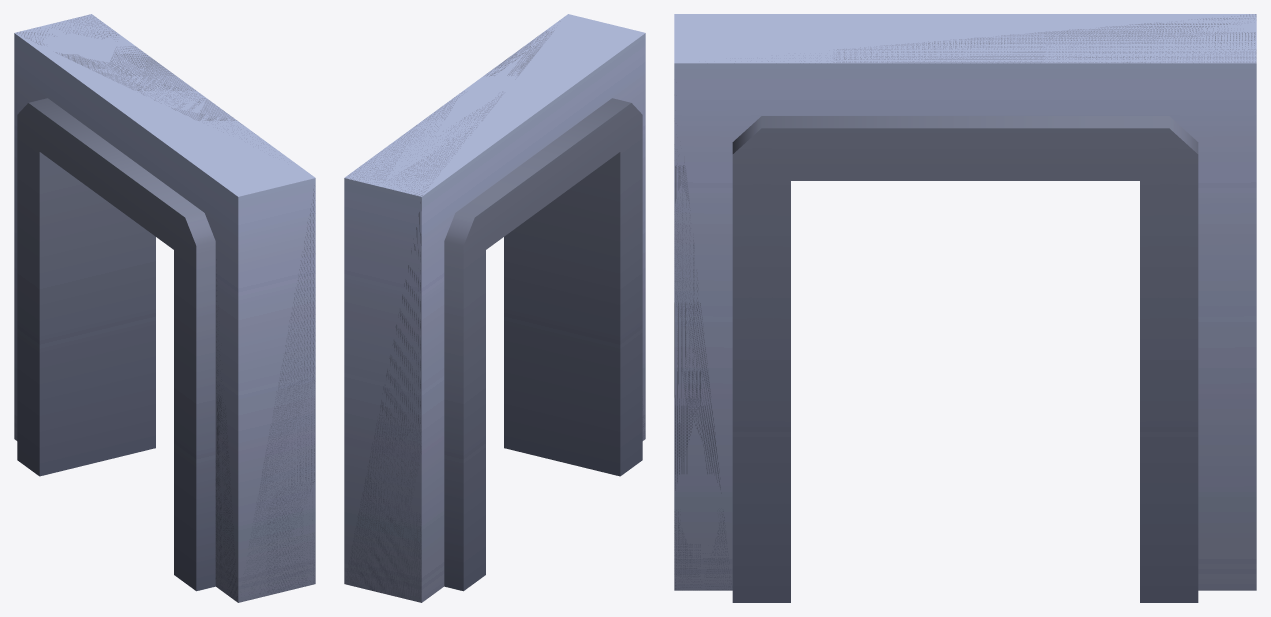
Rendered from wall-doorway.glb.
3 renders of one model, left to right at view 1: azimuth 30°, elevation 25°; view 2: azimuth 150°, elevation 25°; view 3: azimuth 270°, elevation 25°, orthographic. The views are drawn at different scales.
Parts seen in each view (by area): view 1: wall-doorway; view 2: wall-doorway; view 3: wall-doorway.
Boxes of the visible parts, <box> form: wall-doorway: <box>14,14,315,602</box>; wall-doorway: <box>344,14,645,602</box>; wall-doorway: <box>674,14,1256,602</box>.
Size of the model in its own units: 0.3 by 1 by 1.
Materials: 1 (1 with a texture image).
